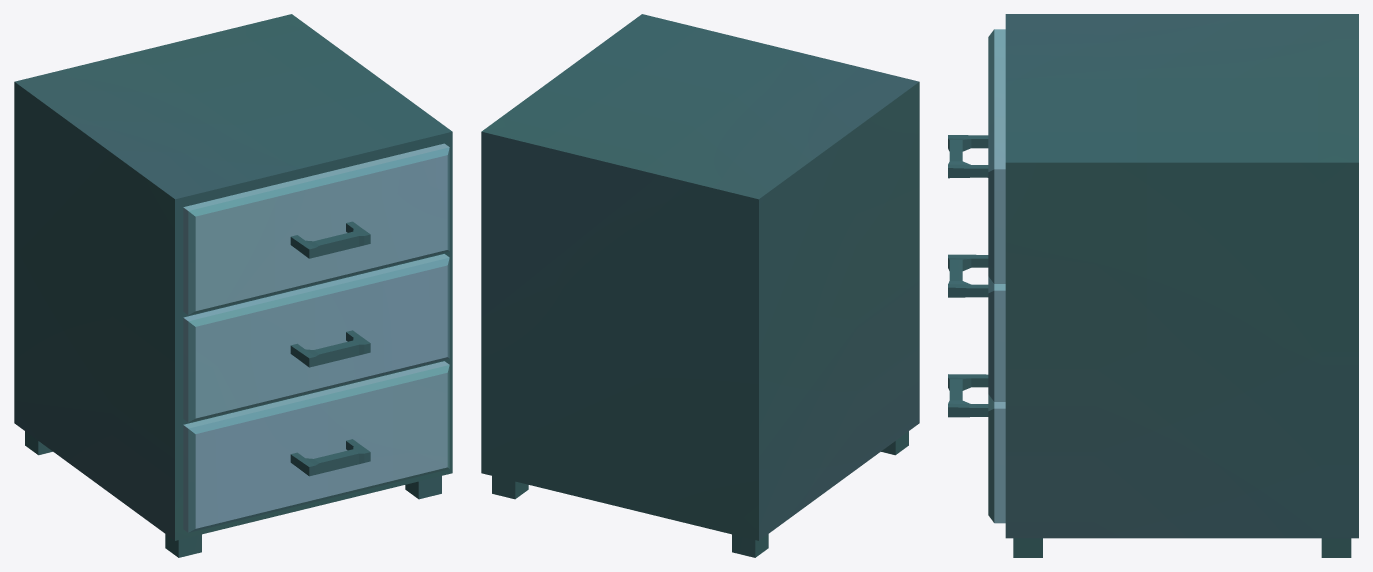
The model's file is cabinet2.glb.
3 renders of one model, left to right at view 1: azimuth 30°, elevation 25°; view 2: azimuth 150°, elevation 25°; view 3: azimuth 270°, elevation 25°, orthographic. The views are drawn at different scales.
Bounding box in the file's own units: 0.6 × 0.75 × 0.7.
1 material, 1 textured.
